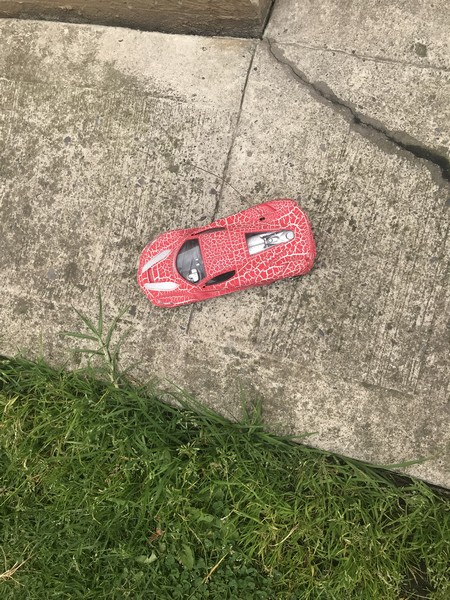RC: (135, 196, 317, 309)
